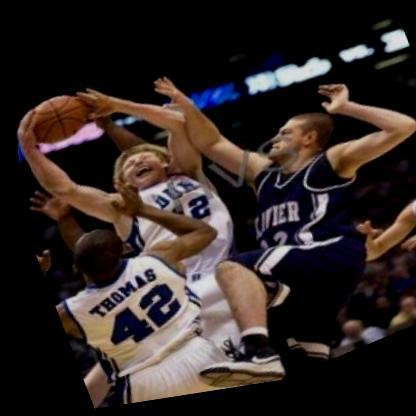basketball: (14, 82, 99, 157)
